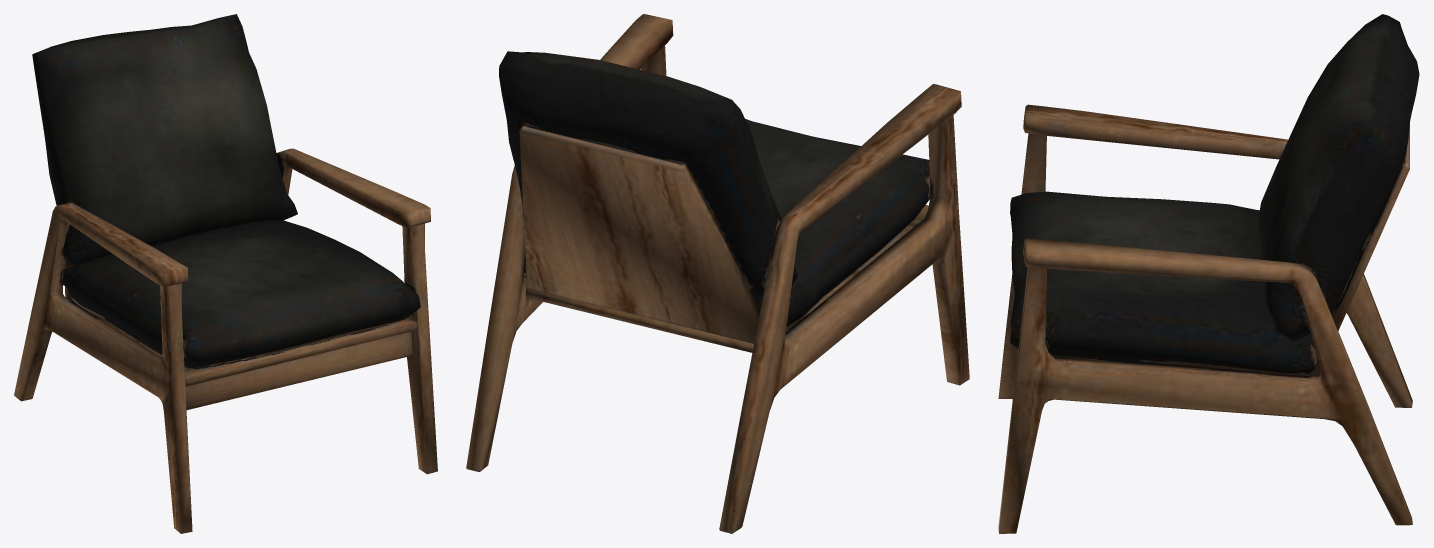
Rendered from officechair.glb.
The picture shows the model from 3 angles, left to right: view 1: azimuth 30°, elevation 25°; view 2: azimuth 150°, elevation 25°; view 3: azimuth 270°, elevation 25°; orthographic projection. The views are drawn at different scales.
Parts seen in each view (by area): view 1: lo; view 2: lo; view 3: lo.
Boxes of the visible parts, bbox=[...] form: lo: bbox=[14, 14, 437, 533]; lo: bbox=[466, 14, 969, 533]; lo: bbox=[998, 14, 1419, 533].
Size of the model in its own units: 0.8199 by 1.02 by 0.9871.
1 material, 1 textured.
